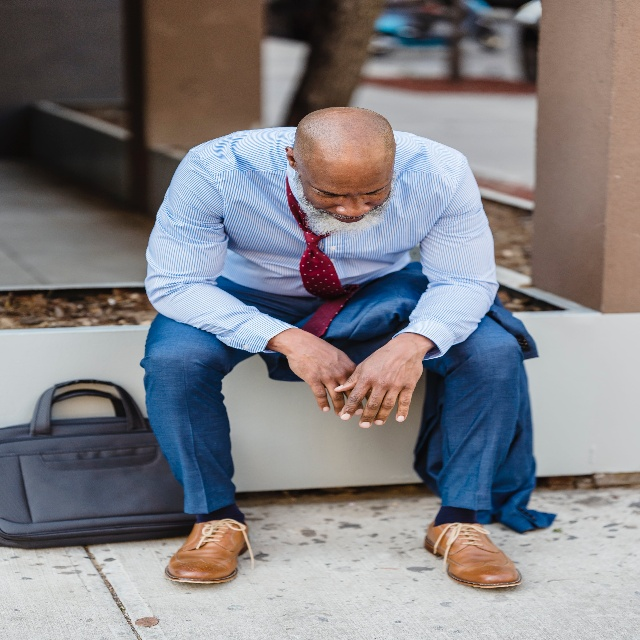Sin_guantes: (333, 336, 423, 430), (289, 325, 374, 418)
